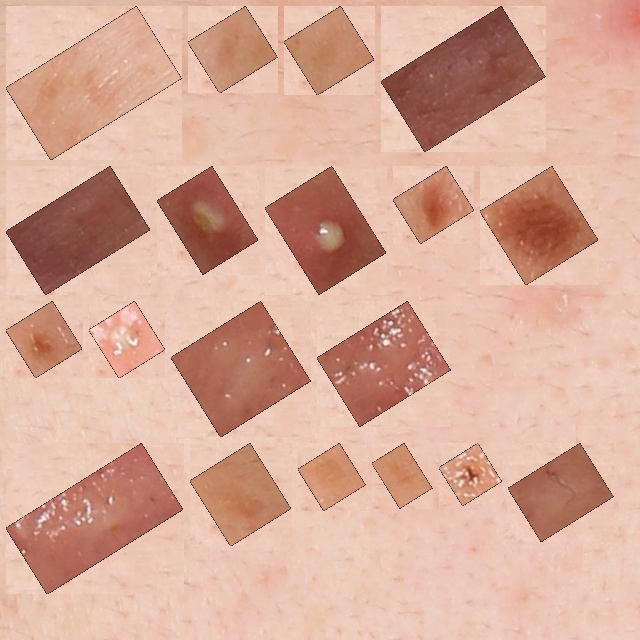hypertrophic_scar: (17, 454, 172, 583), (392, 17, 534, 141), (182, 312, 300, 426), (17, 177, 139, 284), (328, 312, 440, 415), (519, 454, 602, 530)
melasma: (17, 17, 171, 149), (201, 454, 280, 535), (295, 17, 363, 84), (199, 17, 266, 82), (309, 454, 354, 499), (383, 454, 421, 497)
nevus: (491, 177, 587, 274), (404, 177, 463, 232), (17, 312, 71, 367), (450, 454, 491, 495)
pustule: (276, 177, 375, 283), (168, 177, 247, 263), (100, 312, 154, 367)
